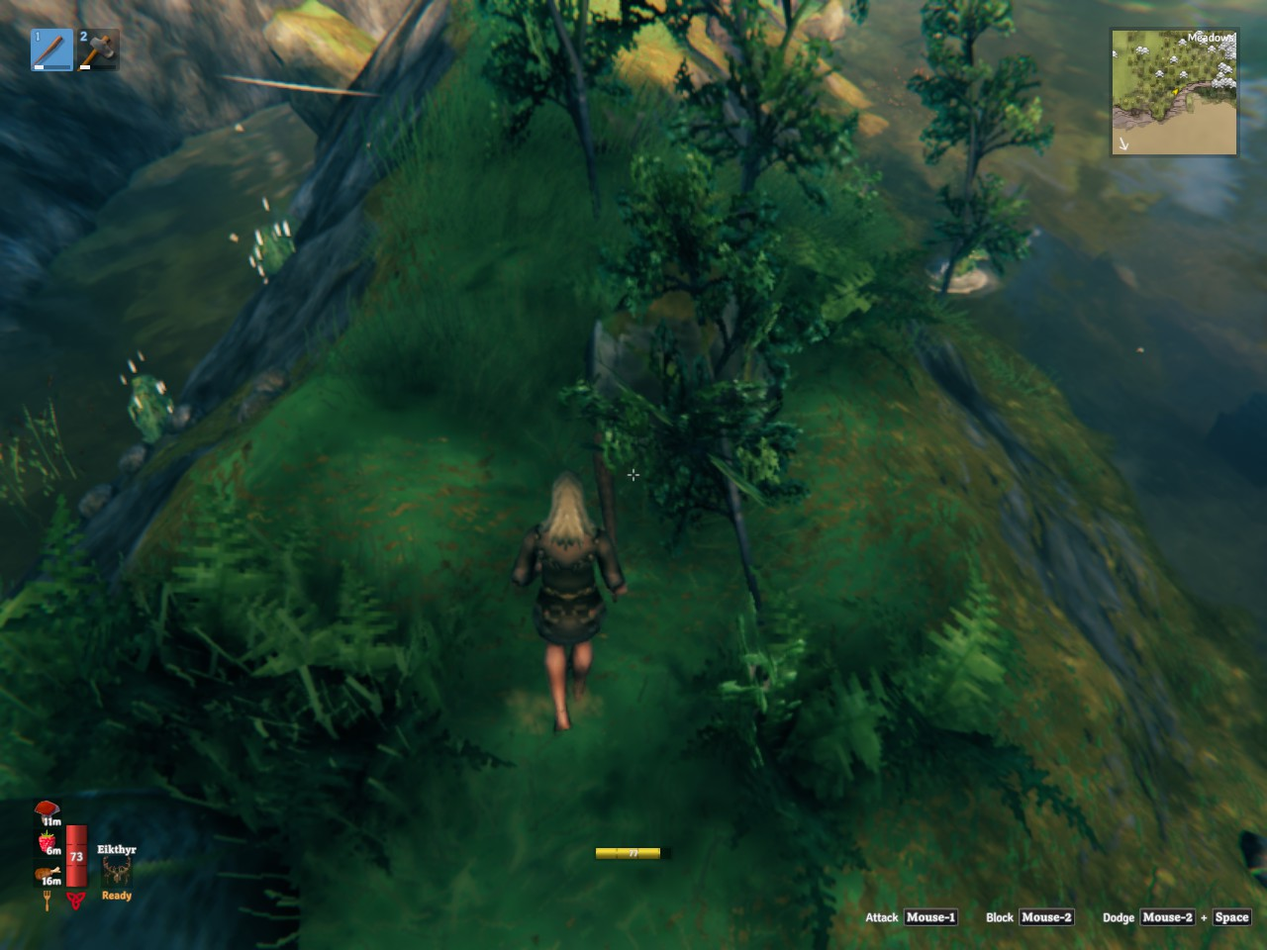Food Indicator: (36, 797, 63, 891)
Health Bar: (63, 820, 90, 891)
Hotbar: (25, 21, 398, 78)
Neck: (130, 375, 173, 444), (252, 218, 294, 276), (955, 249, 987, 276)
Stamina Bar: (590, 841, 677, 865)
Stone: (78, 483, 114, 519), (120, 444, 148, 474), (168, 404, 192, 432)
